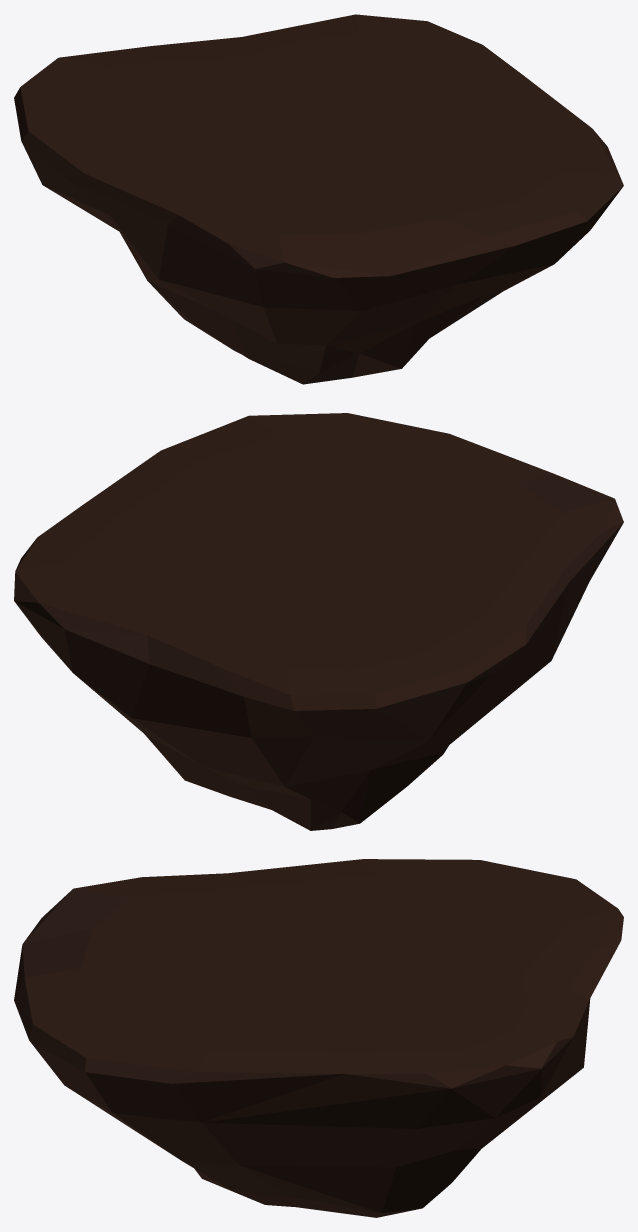
The model's file is map1down.fbx.
3 renders of one model, top to bottom at view 1: azimuth 30°, elevation 25°; view 2: azimuth 150°, elevation 25°; view 3: azimuth 270°, elevation 25°, orthographic. The views are drawn at different scales.
Parts seen in each view (by area): view 1: Cube.513; view 2: Cube.513; view 3: Cube.513.
Part boxes in pixels (left/top/right/bottom): Cube.513: left=14, top=14, right=623, bottom=384; Cube.513: left=14, top=413, right=623, bottom=830; Cube.513: left=14, top=859, right=623, bottom=1217.
Size of the model in its own units: 11059 by 5621 by 12920.
